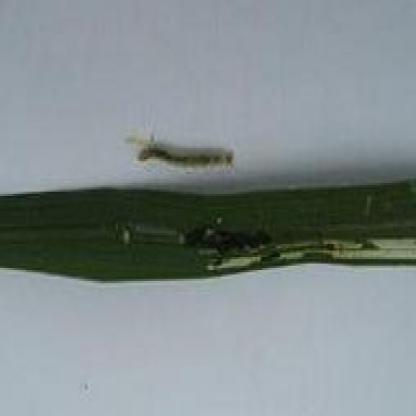leaf-folder: (115, 122, 248, 190)
